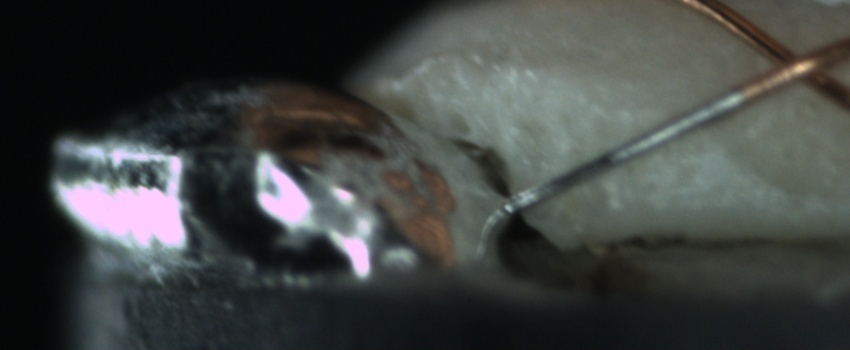CL: (750, 28, 843, 97)
TS: (510, 88, 749, 212)
